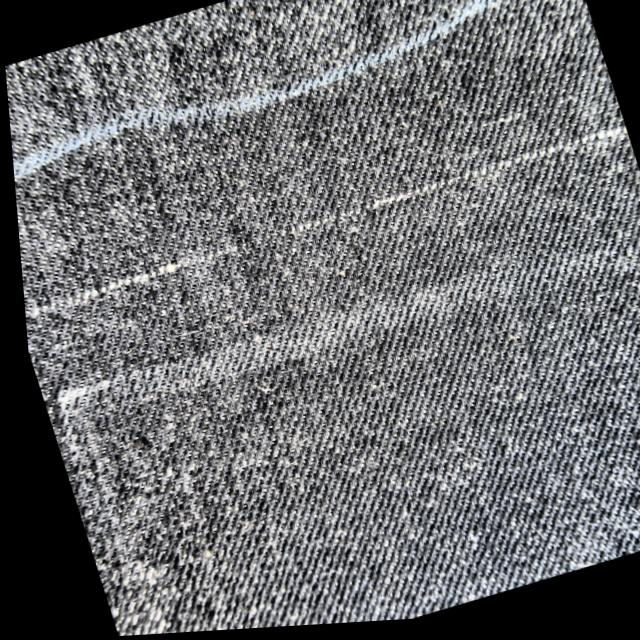Hole: (59, 202, 293, 326), (344, 163, 495, 223), (505, 129, 618, 178)
